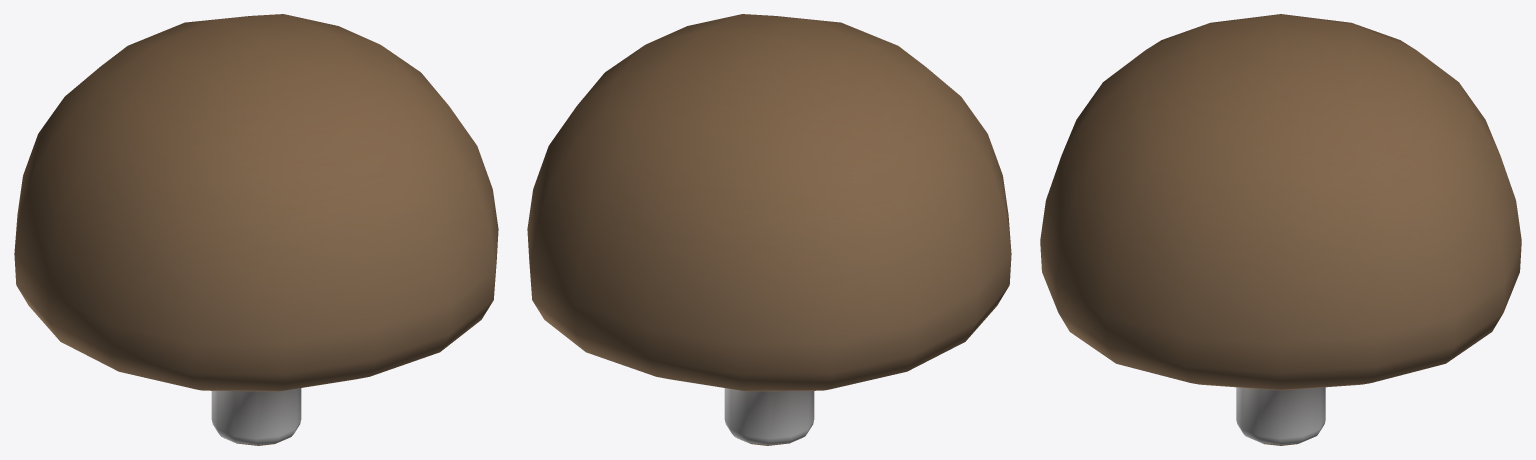
File: Mushroom.glb
3 views of the same model, side by side, from view 1: azimuth 30°, elevation 25°; view 2: azimuth 150°, elevation 25°; view 3: azimuth 270°, elevation 25° (orthographic).
Visible parts, largest first — view 1: Mushroom; view 2: Mushroom; view 3: Mushroom.
Part boxes in pixels (left/top/right/bottom): Mushroom: left=14, top=14, right=498, bottom=445; Mushroom: left=527, top=14, right=1011, bottom=445; Mushroom: left=1040, top=14, right=1521, bottom=445.
Bounding box in the file's own units: 0.1998 × 0.1806 × 0.1998.
Materials: 1 (1 with a texture image).
